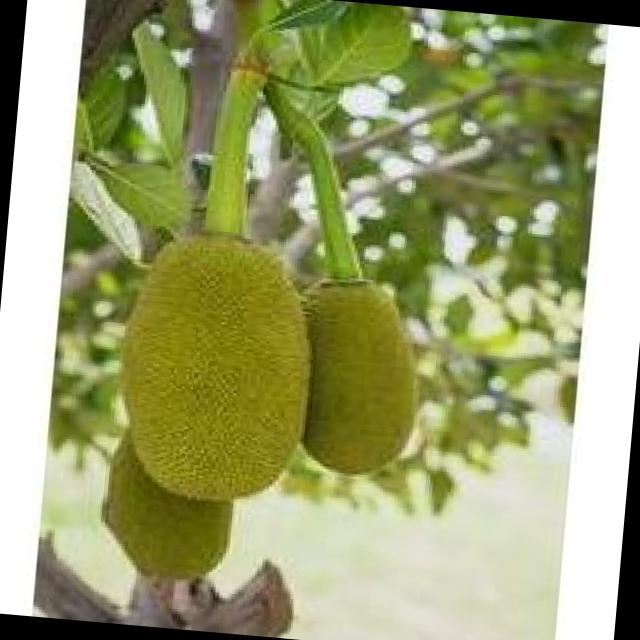Fruit: (100, 218, 333, 522), (274, 255, 448, 500)
